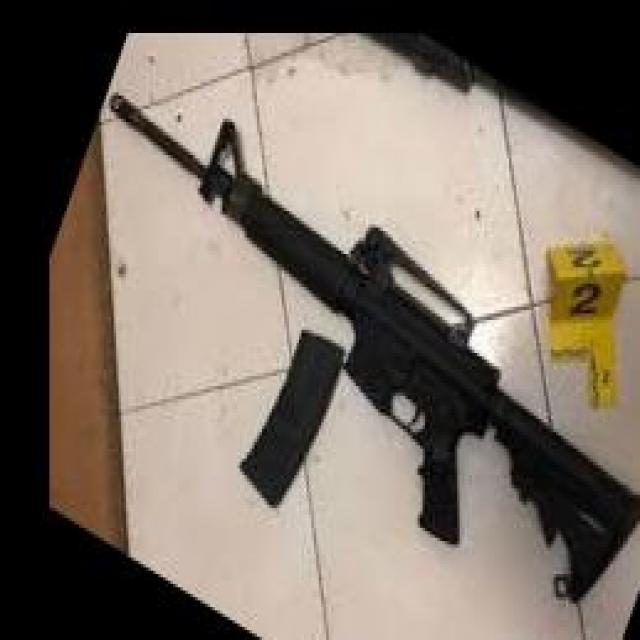weapon: (108, 92, 640, 608)
